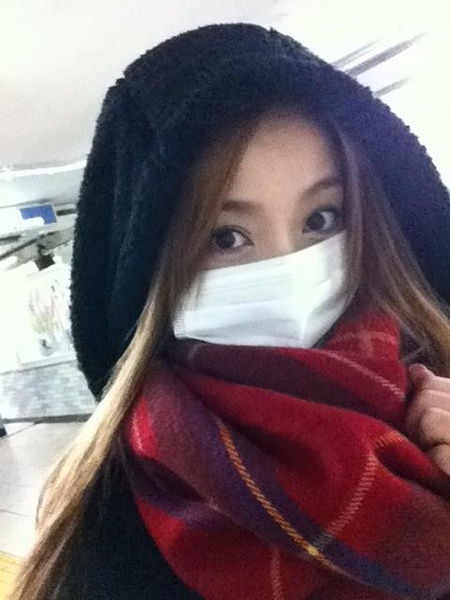face_mask: (170, 115, 349, 415)
